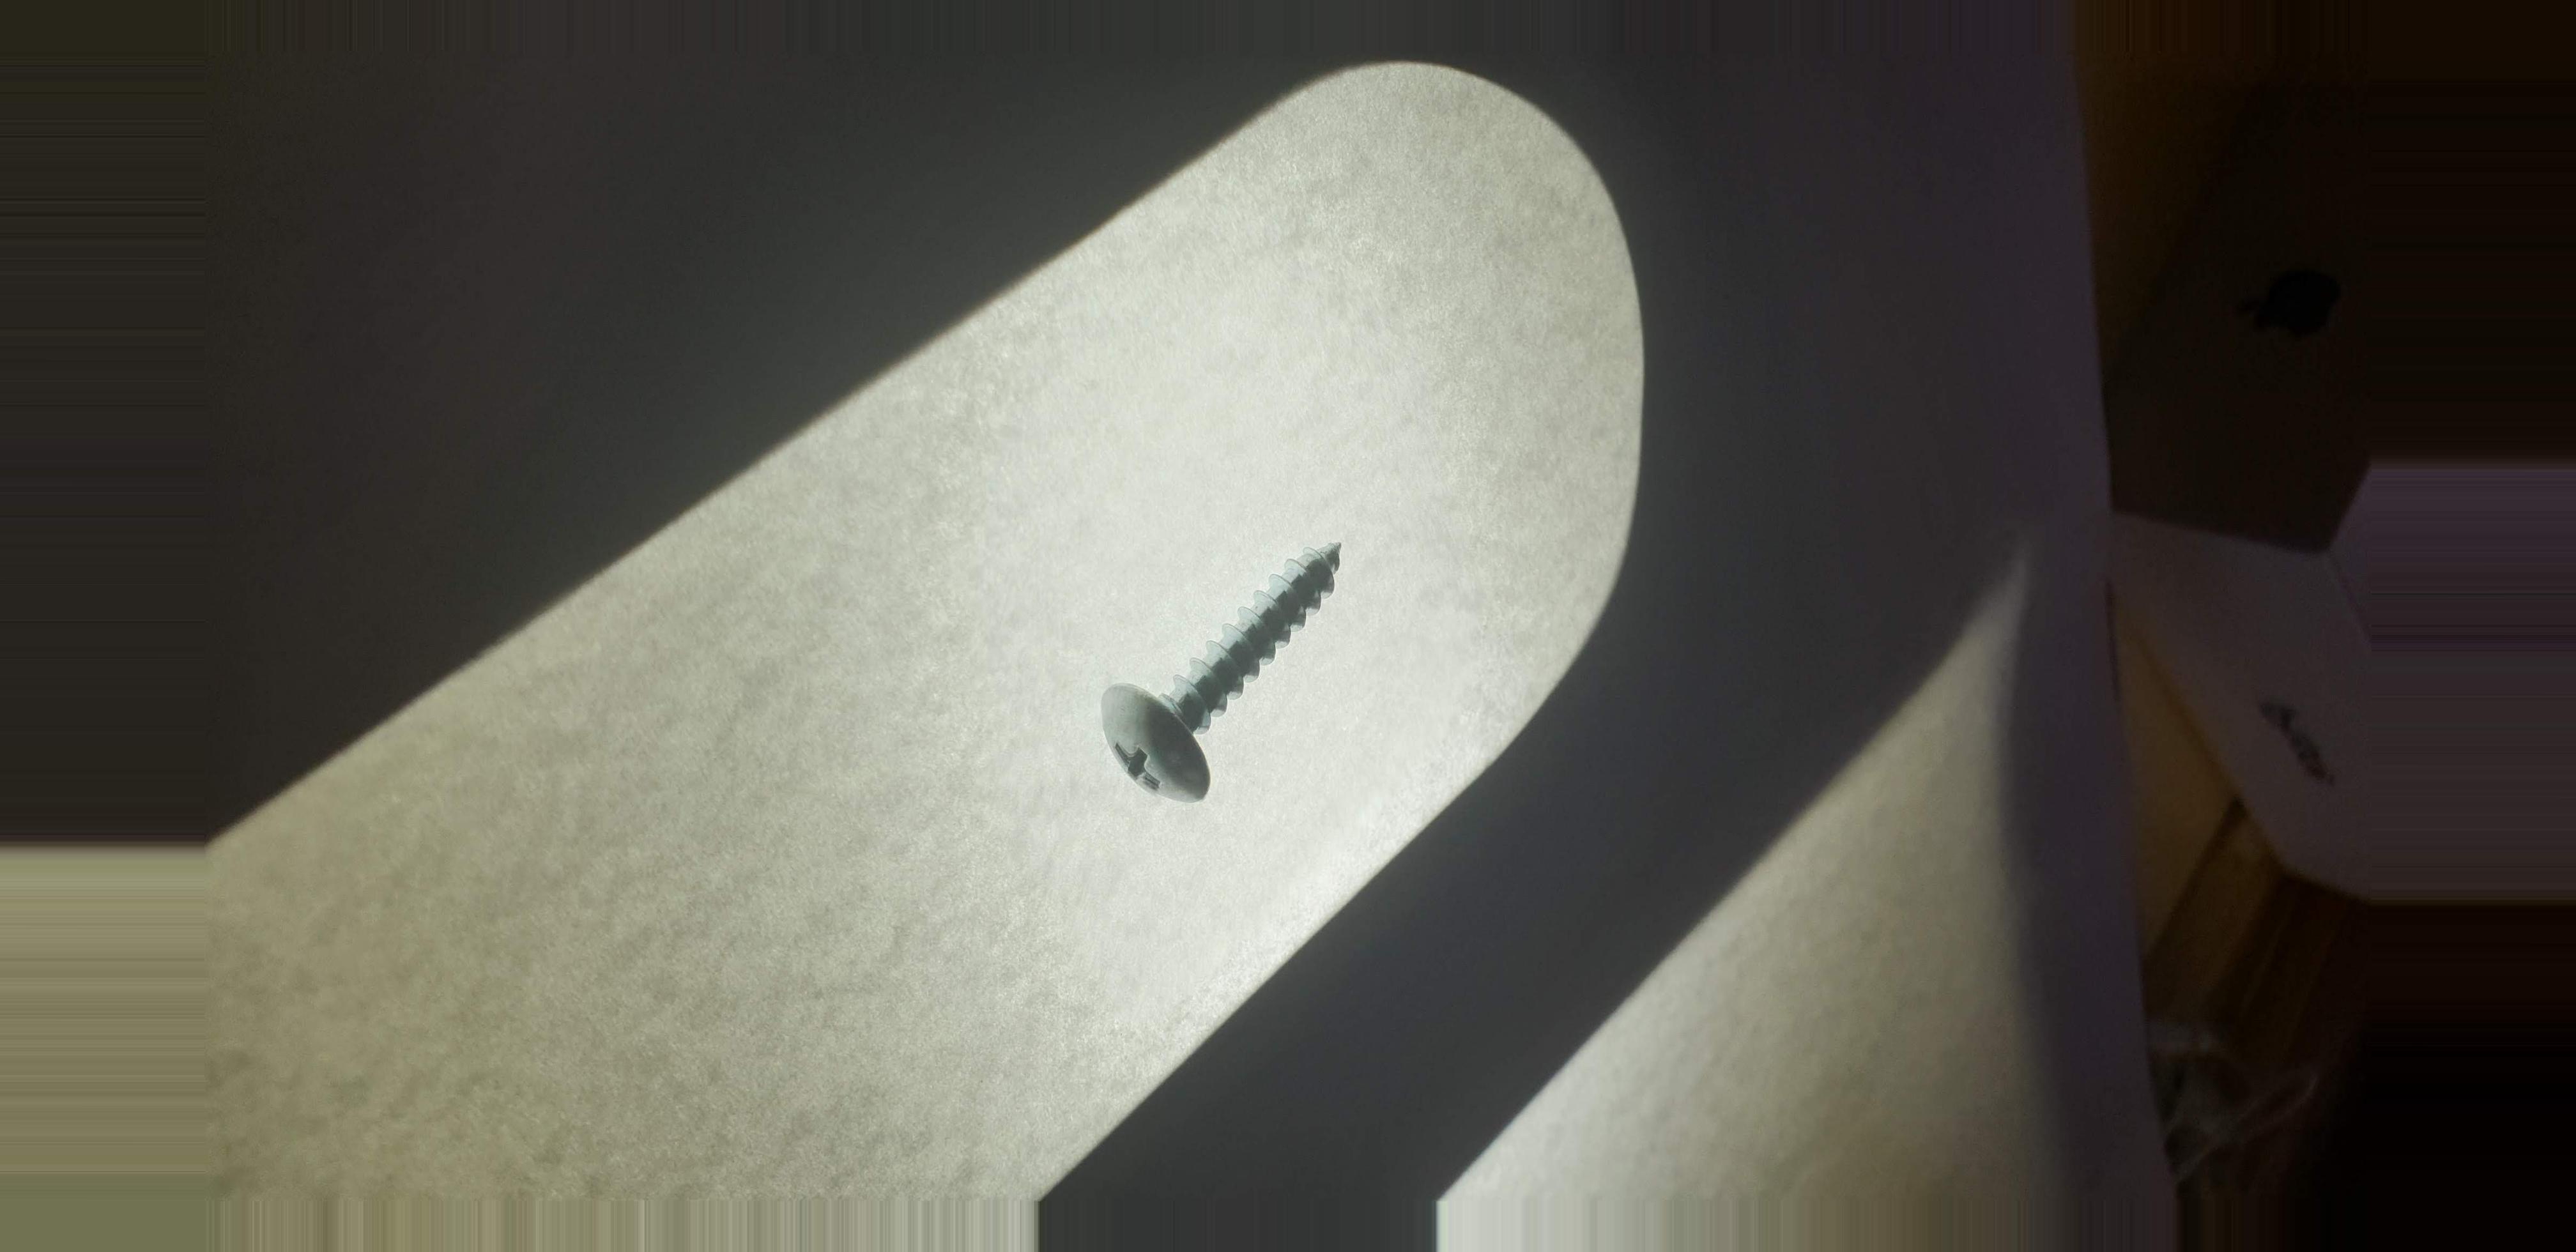S002: (1079, 511, 1388, 825)
